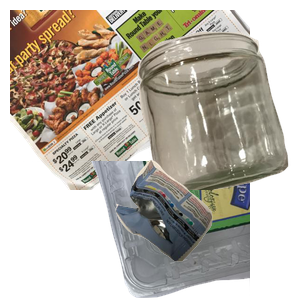glass: (135, 29, 300, 209)
paper: (10, 10, 250, 190)
plastic: (23, 161, 263, 300)
trash: (113, 157, 300, 300)
